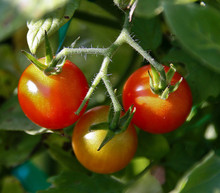tomato: (13, 51, 198, 186)
